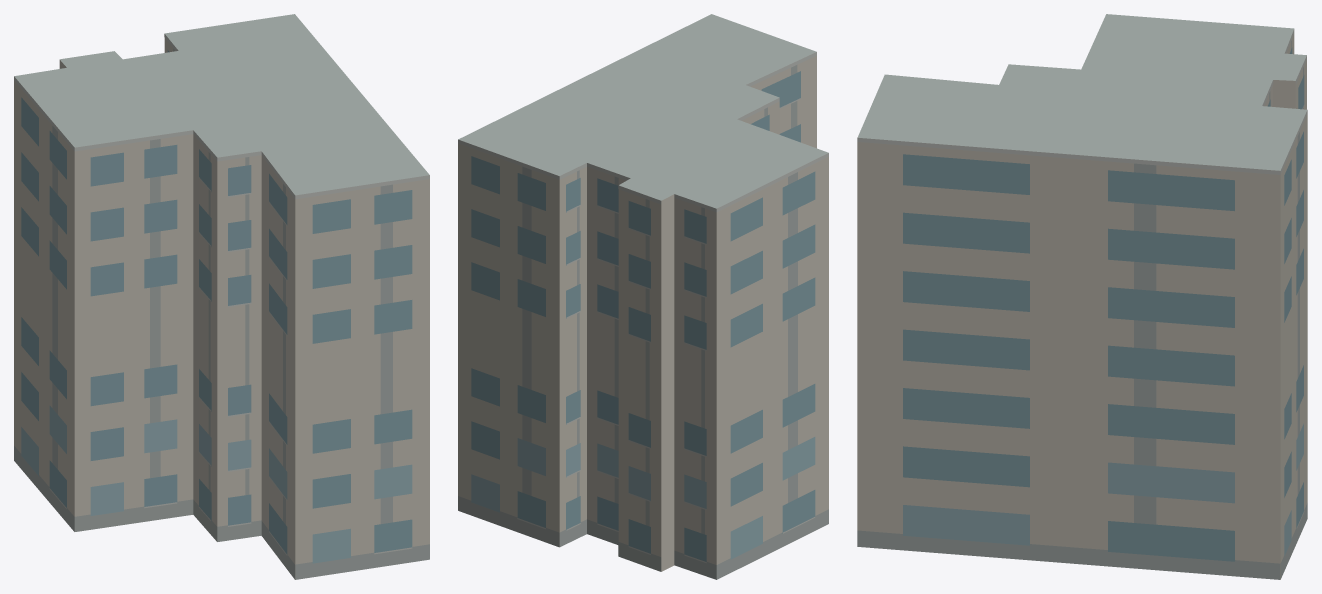
The model's file is survey-upis-32906997.glb.
The picture shows the model from 3 angles, left to right: view 1: azimuth 30°, elevation 25°; view 2: azimuth 150°, elevation 25°; view 3: azimuth 270°, elevation 25°; orthographic projection. The views are drawn at different scales.
Parts seen in each view (by area): view 1: survey-upis-32906997.tmp; view 2: survey-upis-32906997.tmp; view 3: survey-upis-32906997.tmp.
Part boxes in pixels (x1=…): survey-upis-32906997.tmp: x1=14, y1=14, x2=429, y2=579; survey-upis-32906997.tmp: x1=458, y1=14, x2=828, y2=579; survey-upis-32906997.tmp: x1=857, y1=14, x2=1307, y2=579.
Bounding box in the file's own units: 19.75 × 24 × 23.94.
